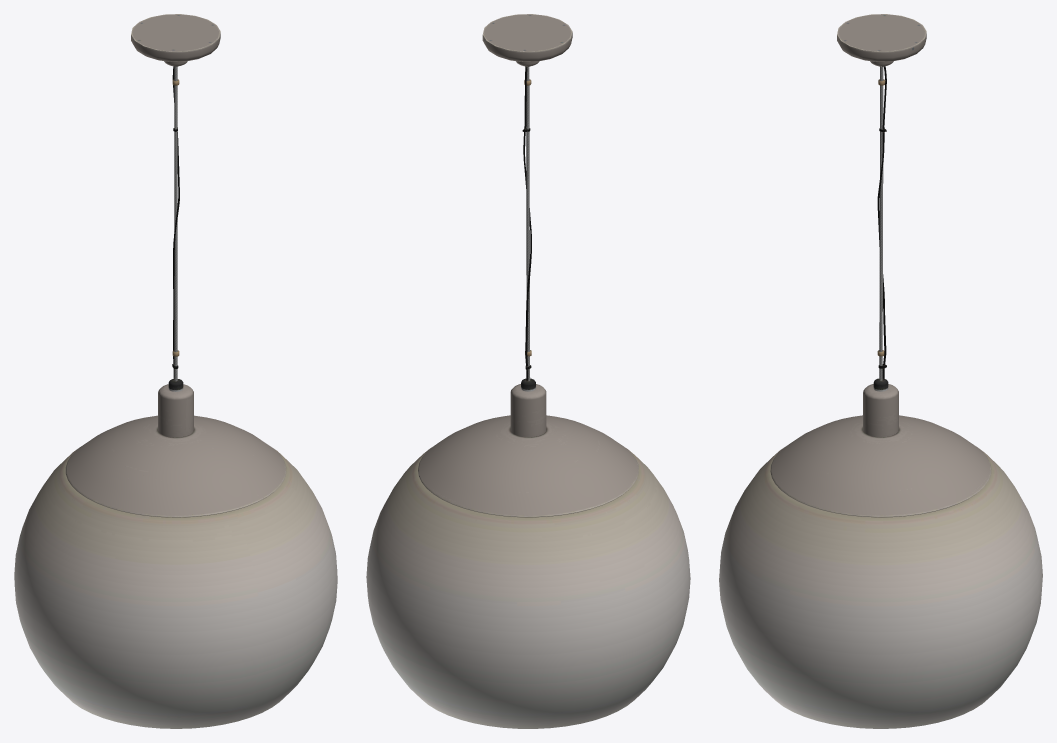
Rendered from modern_ceiling_lamp_01_4k-v2.glb.
3 views of the same model, side by side, from view 1: azimuth 30°, elevation 25°; view 2: azimuth 150°, elevation 25°; view 3: azimuth 270°, elevation 25° (orthographic).
Parts seen in each view (by area): view 1: modern_ceiling_lamp_01; view 2: modern_ceiling_lamp_01; view 3: modern_ceiling_lamp_01.
Part boxes in pixels (left/top/right/bottom): modern_ceiling_lamp_01: left=14, top=14, right=337, bottom=728; modern_ceiling_lamp_01: left=366, top=14, right=690, bottom=728; modern_ceiling_lamp_01: left=719, top=14, right=1042, bottom=728.
Size of the model in its own units: 0.4317 by 0.9516 by 0.4317.
3 materials, 3 textured.
